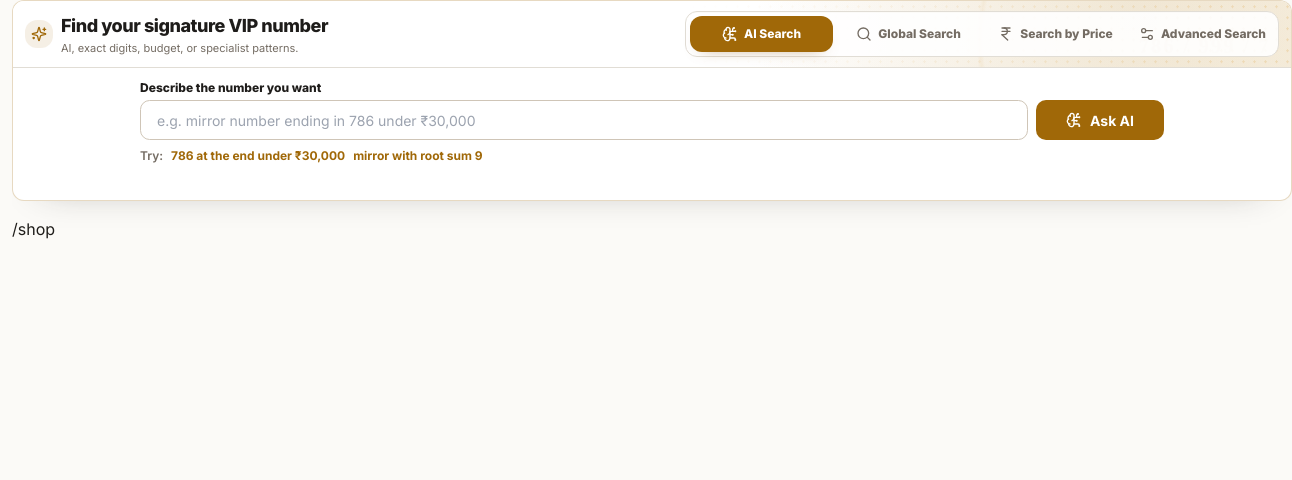
Test: SearchWorkbench › serializes the shared inclusive price bands
Click the tab "Search by Price". click: (1056, 34)
box: [984,16,1127,52]
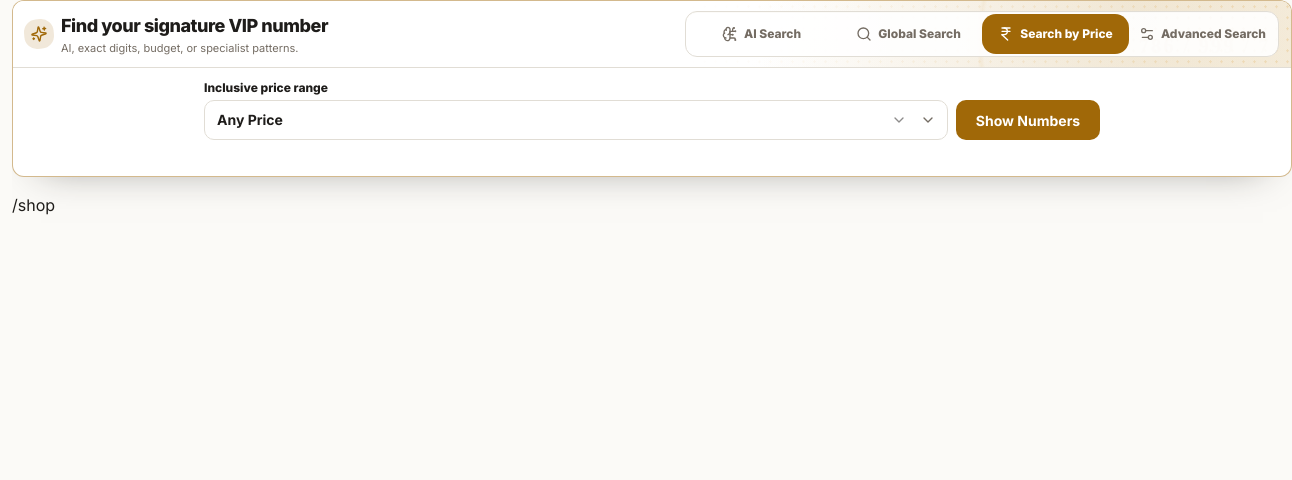
Click the dropdown named "Inclusive price range". click: (250, 120)
box: [204,100,948,140]
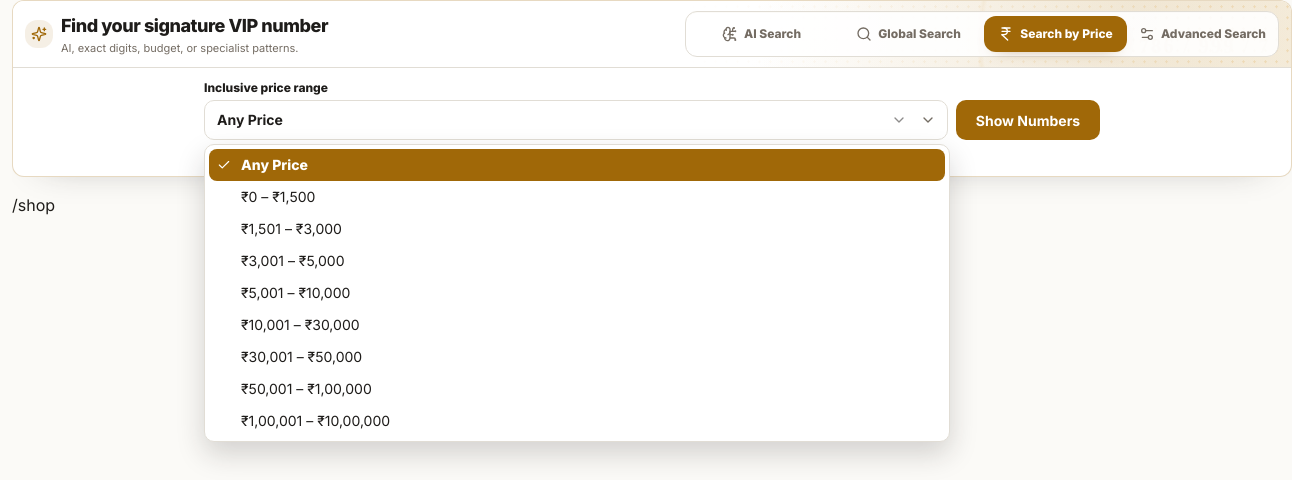
Click the option "₹10,001 – ₹30,000". click: (300, 324)
box: [241,316,360,333]
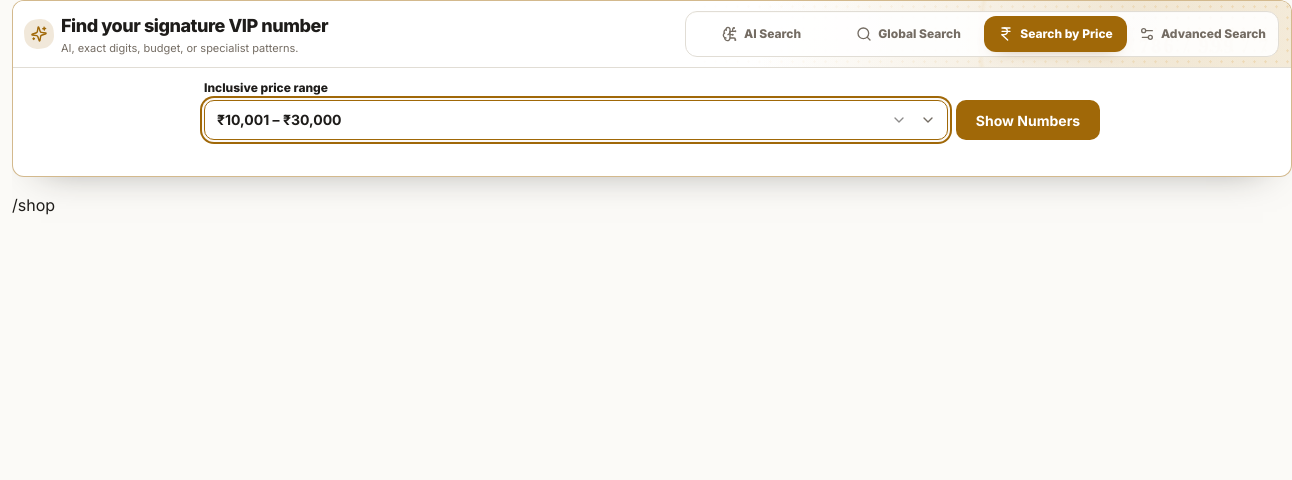
Click the button "Show Numbers". click: (1028, 120)
box: [956,100,1100,140]
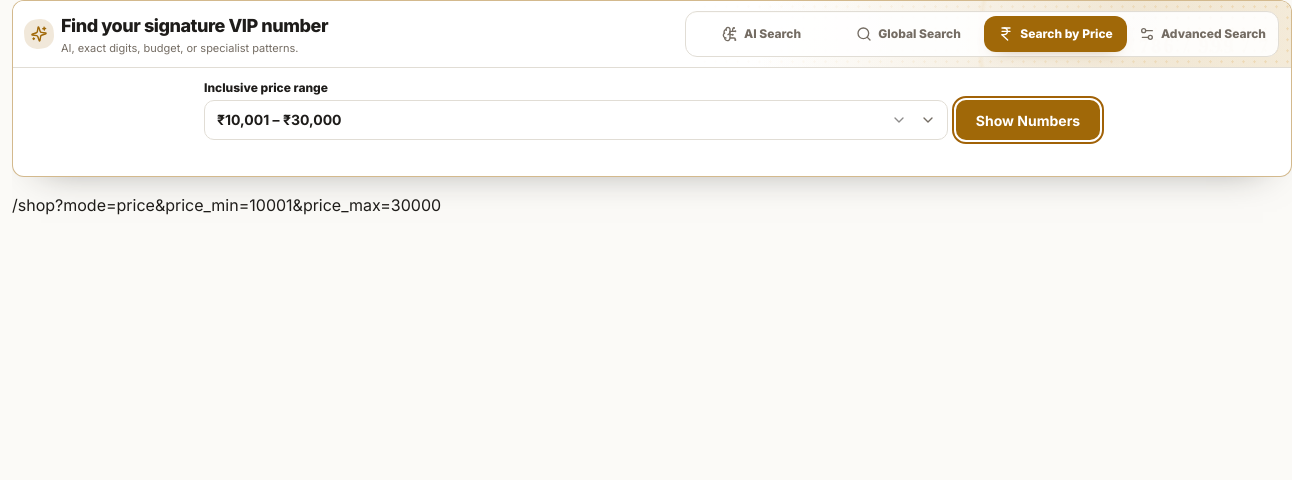
Expected: the text with test id "location" shows "mode=price", [55,195,441,215]
Expected: the text with test id "location" shows "price_min=10001", [55,195,441,215]
Expected: the text with test id "location" shows "price_max=30000", [55,195,441,215]
